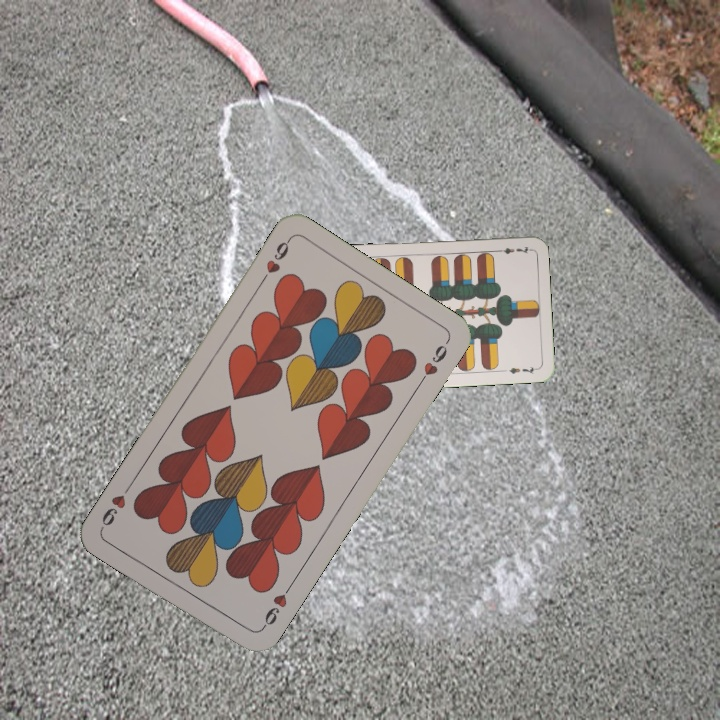E7: (492, 242, 532, 257)
H9: (255, 235, 294, 287), (256, 581, 295, 633)
